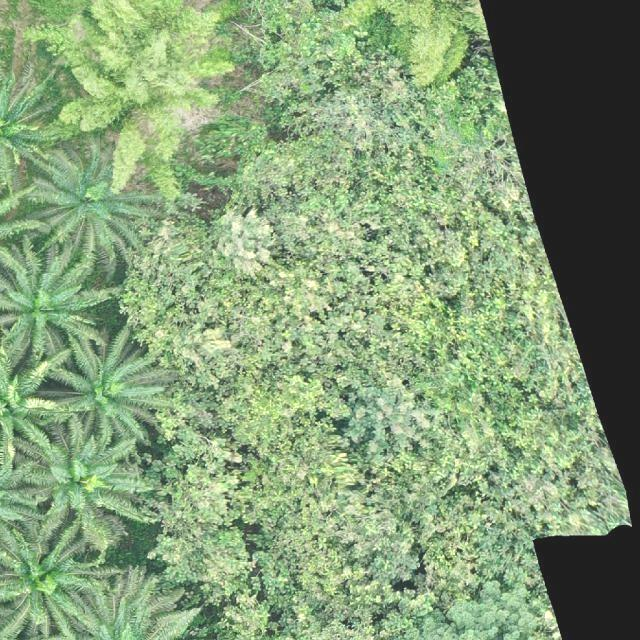Kelapa_Sawit: (2, 240, 114, 362), (54, 332, 175, 440), (38, 438, 156, 546), (37, 168, 162, 266), (0, 524, 105, 640), (88, 572, 198, 640), (2, 354, 64, 461), (0, 71, 62, 167)
